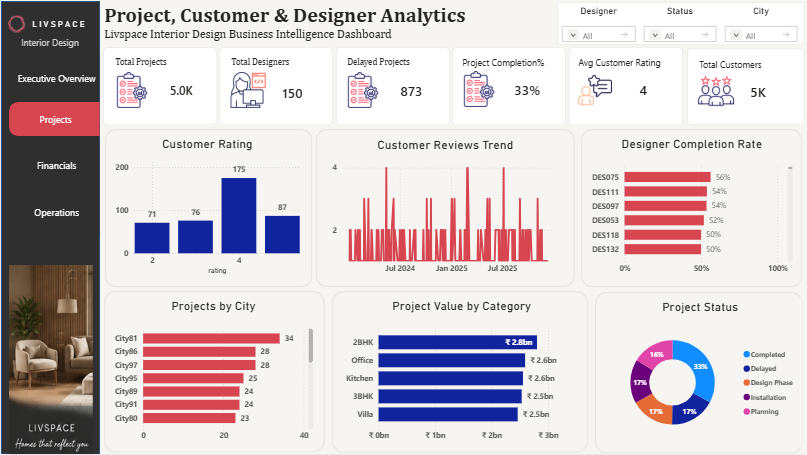

The dashboard page shown, as its layout file describes it:
{"tool":"powerbi","page":{"name":"Page 2","canvas":[1280,720],"ordinal":1},"visuals":[{"type":"shape","box":[0,1.6,157.4,719.7],"z":0,"group":"g1"},{"type":"shape","box":[164.6,204.2,329.1,251.3],"z":0},{"type":"image","box":[11.8,20.4,29.4,34.7],"z":1000,"group":"g1"},{"type":"columnChart","title":"Customer Rating","fields":{"Category":["customer_reviews.rating"],"Y":["CountNonNull(customer_reviews.review_id)"]},"box":[176.1,213.4,303,228.4],"z":1000},{"type":"group","id":"g1","title":"Group 1","box":[0,1.6,157.4,719.7],"z":2000},{"type":"textbox","box":[44.1,24.5,101.6,36.1],"z":2000,"group":"g1"},{"type":"textbox","box":[158.3,0,1121.7,75],"z":3000},{"type":"textbox","box":[26.5,51.6,115.7,31.4],"z":3000,"group":"g1"},{"type":"group","id":"g2","title":"Group 2","box":[162.5,75,181.2,124],"z":4000},{"type":"shape","box":[12.3,161.8,144.3,54.1],"z":4000,"group":"g1"},{"type":"group","id":"g3","title":"Group 3","box":[345.9,75.2,180.8,124.2],"z":5000},{"type":"group","id":"g4","title":"Group 4","box":[531.4,75,180.7,122.9],"z":6000},{"type":"group","id":"g5","title":"Group 5","box":[716.2,75,180.8,124.2],"z":7000},{"type":"group","id":"g6","title":"Group 5","box":[901.6,75.3,180.8,124.2],"z":8000},{"type":"image","box":[13.1,421.3,132.8,300],"z":8000,"group":"g1"},{"type":"group","id":"g7","title":"Group 5","box":[1088.1,75.8,186.1,122.2],"z":9000},{"type":"shape","box":[882.8,3,391.9,67.7],"z":10000,"group":"g9"},{"type":"group","id":"g8","title":"Group 8","box":[163.5,462.4,350.6,256.5],"z":10000},{"type":"barChart","title":"Projects by City","fields":{"Category":["cities.city_name"],"Y":["CountNonNull(projects.project_id)"]},"box":[174.1,469.4,325.9,240],"z":11000},{"type":"textSlicer","title":"Designer","fields":{"Values":["designers.designer_id"]},"box":[886.9,6.4,123,62.9],"z":12000,"group":"g9"},{"type":"shape","box":[499.6,204.2,410.8,250.8],"z":12000},{"type":"lineChart","title":"Customer Reviews Trend","fields":{"Category":["customer_reviews.review_date.Variation.Date Hierarchy.Month"],"Y":["CountNonNull(customer_reviews.review_id)"]},"box":[514.3,214.5,382.1,229.9],"z":13000},{"type":"shape","box":[162.5,75,181.2,124],"z":14000,"group":"g2"},{"type":"shape","box":[531.4,75,180.8,124.2],"z":14000,"group":"g4"},{"type":"shape","box":[716.2,75,180.8,124.2],"z":14000,"group":"g5"},{"type":"shape","box":[345.9,75.2,180.8,124.2],"z":14000,"group":"g3"},{"type":"shape","box":[901.6,75.3,180.8,124.2],"z":14000,"group":"g6"},{"type":"shape","box":[1088.1,75.8,186.1,122.2],"z":14000,"group":"g7"},{"type":"shape","box":[525.8,461.9,406.2,256.7],"z":14000},{"type":"textSlicer","title":"Status","fields":{"Values":["projects.project_status"]},"box":[1018.3,6.4,120.8,62.6],"z":15000,"group":"g9"},{"type":"clusteredBarChart","title":"Project Value by Category","fields":{"Category":["projects.project_type"],"Y":["Sum(projects.project_budget)"]},"box":[541.2,470.1,380.4,240.2],"z":15000},{"type":"shape","box":[921.3,204.2,351.2,251.3],"z":16000},{"type":"textSlicer","title":"City","fields":{"Values":["cities.city_name"]},"box":[1146.2,6.4,120.8,62.6],"z":17000,"group":"g9"},{"type":"barChart","title":"Designer Completion Rate","fields":{"Y":["All Measures.Designer Completion Rate %"],"Category":["projects.designer_id"]},"box":[931.3,211.9,329.9,231.3],"z":17000},{"type":"shape","box":[942.6,462.8,329.8,256.4],"z":18000},{"type":"cardVisual","title":"Total Revenue","fields":{"Data":["All Measures.Project Completion %"]},"box":[785.8,109.9,100.4,61.1],"z":19000,"group":"g5"},{"type":"cardVisual","title":"Total Revenue","fields":{"Data":["All Measures.Total Projects"]},"box":[234.5,110.9,100.4,61.1],"z":19000,"group":"g2"},{"type":"cardVisual","title":"Total Revenue","fields":{"Data":["All Measures.Average Customer Rating"]},"box":[969.1,110.9,100.4,61.1],"z":19000,"group":"g6"},{"type":"cardVisual","title":"Total Revenue","fields":{"Data":["All Measures.Delayed Projects"]},"box":[601.2,111.3,100.4,61.1],"z":19000,"group":"g4"},{"type":"cardVisual","title":"Total Revenue","fields":{"Data":["All Measures.Total Designers"]},"box":[417.7,111.4,97.3,67.6],"z":19000,"group":"g3"},{"type":"cardVisual","title":"Total Revenue","fields":{"Data":["All Measures.Total Customers"]},"box":[1160.1,112.4,100.2,61.5],"z":19000,"group":"g7"},{"type":"donutChart","title":"Project Status","fields":{"Category":["projects.project_status"],"Y":["All Measures.Total Projects"]},"box":[948.5,472.2,321.6,239.2],"z":19000},{"type":"textbox","box":[728,84.1,158.6,30],"z":20000,"group":"g5"},{"type":"textbox","box":[177.1,84.4,107.3,30.2],"z":20000,"group":"g2"},{"type":"textbox","box":[543.6,85.1,133.3,30],"z":20000,"group":"g4"},{"type":"textbox","box":[911.2,85.1,158.6,30],"z":20000,"group":"g6"},{"type":"textbox","box":[360.1,85.2,133.3,30],"z":20000,"group":"g3"},{"type":"textbox","box":[1102.3,86.5,158.3,30.2],"z":20000,"group":"g7"},{"type":"shape","box":[20.6,86.7,135.7,74.3],"z":20000},{"type":"group","id":"g9","title":"Group 6","box":[882.8,3,391.9,67.7],"z":21000},{"type":"image","box":[726.2,113.5,66.6,56.7],"z":21000,"group":"g5"},{"type":"image","box":[174.9,114.5,66.6,56.7],"z":21000,"group":"g2"},{"type":"image","box":[909.4,114.6,66.6,56.7],"z":21000,"group":"g6"},{"type":"image","box":[541.5,114.9,66.6,56.7],"z":21000,"group":"g4"},{"type":"image","box":[358.1,115,66.6,56.7],"z":21000,"group":"g3"},{"type":"image","box":[1100.6,116.1,66.5,57],"z":21000,"group":"g7"},{"type":"shape","box":[163.5,462.4,350.6,256.5],"z":38000,"group":"g8"},{"type":"shape","box":[20,226,135.7,74.3],"z":42000,"group":"g1"},{"type":"shape","box":[20,300.4,135.7,74.3],"z":43000,"group":"g1"}]}

Visuals, with their boxes on the page's 1280x720 design canvas (x1, y1, x2, y2). These are canvas units, not pixel positions in the 807x455 screenshot, which may show the page scaled, cropped or inside an application window:
shape: <bbox>0, 2, 157, 721</bbox>
shape: <bbox>165, 204, 494, 456</bbox>
image: <bbox>12, 20, 41, 55</bbox>
"Customer Rating" columnChart: <bbox>176, 213, 479, 442</bbox>
"Group 1" group: <bbox>0, 2, 157, 721</bbox>
textbox: <bbox>44, 24, 146, 61</bbox>
textbox: <bbox>158, 0, 1280, 75</bbox>
textbox: <bbox>26, 52, 142, 83</bbox>
"Group 2" group: <bbox>162, 75, 344, 199</bbox>
shape: <bbox>12, 162, 157, 216</bbox>
"Group 3" group: <bbox>346, 75, 527, 199</bbox>
"Group 4" group: <bbox>531, 75, 712, 198</bbox>
"Group 5" group: <bbox>716, 75, 897, 199</bbox>
"Group 5" group: <bbox>902, 75, 1082, 200</bbox>
image: <bbox>13, 421, 146, 721</bbox>
"Group 5" group: <bbox>1088, 76, 1274, 198</bbox>
shape: <bbox>883, 3, 1275, 71</bbox>
"Group 8" group: <bbox>164, 462, 514, 719</bbox>
"Projects by City" barChart: <bbox>174, 469, 500, 709</bbox>
"Designer" textSlicer: <bbox>887, 6, 1010, 69</bbox>
shape: <bbox>500, 204, 910, 455</bbox>
"Customer Reviews Trend" lineChart: <bbox>514, 214, 896, 444</bbox>
shape: <bbox>162, 75, 344, 199</bbox>
shape: <bbox>531, 75, 712, 199</bbox>
shape: <bbox>716, 75, 897, 199</bbox>
shape: <bbox>346, 75, 527, 199</bbox>
shape: <bbox>902, 75, 1082, 200</bbox>
shape: <bbox>1088, 76, 1274, 198</bbox>
shape: <bbox>526, 462, 932, 719</bbox>
"Status" textSlicer: <bbox>1018, 6, 1139, 69</bbox>
"Project Value by Category" clusteredBarChart: <bbox>541, 470, 922, 710</bbox>
shape: <bbox>921, 204, 1272, 456</bbox>
"City" textSlicer: <bbox>1146, 6, 1267, 69</bbox>
"Designer Completion Rate" barChart: <bbox>931, 212, 1261, 443</bbox>
shape: <bbox>943, 463, 1272, 719</bbox>
"Total Revenue" cardVisual: <bbox>786, 110, 886, 171</bbox>
"Total Revenue" cardVisual: <bbox>234, 111, 335, 172</bbox>
"Total Revenue" cardVisual: <bbox>969, 111, 1070, 172</bbox>
"Total Revenue" cardVisual: <bbox>601, 111, 702, 172</bbox>
"Total Revenue" cardVisual: <bbox>418, 111, 515, 179</bbox>
"Total Revenue" cardVisual: <bbox>1160, 112, 1260, 174</bbox>
"Project Status" donutChart: <bbox>948, 472, 1270, 711</bbox>
textbox: <bbox>728, 84, 887, 114</bbox>
textbox: <bbox>177, 84, 284, 115</bbox>
textbox: <bbox>544, 85, 677, 115</bbox>
textbox: <bbox>911, 85, 1070, 115</bbox>
textbox: <bbox>360, 85, 493, 115</bbox>
textbox: <bbox>1102, 86, 1261, 117</bbox>
shape: <bbox>21, 87, 156, 161</bbox>
"Group 6" group: <bbox>883, 3, 1275, 71</bbox>
image: <bbox>726, 114, 793, 170</bbox>
image: <bbox>175, 114, 242, 171</bbox>
image: <bbox>909, 115, 976, 171</bbox>
image: <bbox>542, 115, 608, 172</bbox>
image: <bbox>358, 115, 425, 172</bbox>
image: <bbox>1101, 116, 1167, 173</bbox>
shape: <bbox>164, 462, 514, 719</bbox>
shape: <bbox>20, 226, 156, 300</bbox>
shape: <bbox>20, 300, 156, 375</bbox>
